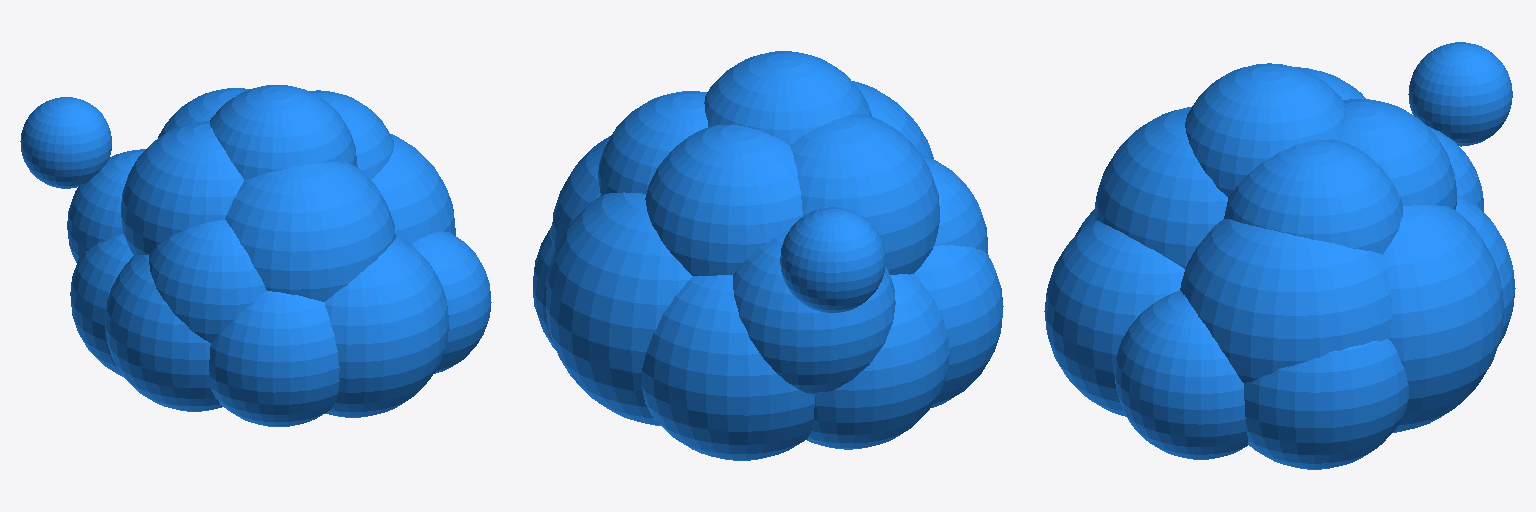
URDF robot description (teapot):
<?xml version="1.0"?>
<robot name="teapot">
  <!-- morphit:centroid -0.010786 0.005722 0.055192 -->
  <material name="default_color">
    <color rgba="0.200000 0.600000 1.000000 1.000000"/>
  </material>
  <link name="base">
    <inertial>
      <mass value="0.001000"/>
      <inertia ixx="0.000010" ixy="0.0" ixz="0.0" iyy="0.000010" iyz="0.0" izz="0.000010"/>
    </inertial>
  </link>
  <link name="sphere_0">
    <visual>
      <origin xyz="0 0 0" rpy="0 0 0"/>
      <geometry><sphere radius="0.048373"/></geometry>
      <material name="default_color"/>
    </visual>
    <collision>
      <origin xyz="0 0 0" rpy="0 0 0"/>
      <geometry><sphere radius="0.048373"/></geometry>
    </collision>
    <inertial>
      <mass value="0.099904"/>
      <inertia ixx="0.000094" ixy="0.0" ixz="0.0" iyy="0.000094" iyz="0.0" izz="0.000094"/>
    </inertial>
  </link>
  <joint name="sphere_0_fixed" type="fixed">
    <parent link="base"/>
    <child link="sphere_0"/>
    <origin xyz="0.028734 0.033299 -0.009886" rpy="0 0 0"/>
  </joint>
  <link name="sphere_1">
    <visual>
      <origin xyz="0 0 0" rpy="0 0 0"/>
      <geometry><sphere radius="0.042305"/></geometry>
      <material name="default_color"/>
    </visual>
    <collision>
      <origin xyz="0 0 0" rpy="0 0 0"/>
      <geometry><sphere radius="0.042305"/></geometry>
    </collision>
    <inertial>
      <mass value="0.066827"/>
      <inertia ixx="0.000048" ixy="0.0" ixz="0.0" iyy="0.000048" iyz="0.0" izz="0.000048"/>
    </inertial>
  </link>
  <joint name="sphere_1_fixed" type="fixed">
    <parent link="base"/>
    <child link="sphere_1"/>
    <origin xyz="0.016795 -0.053936 -0.016501" rpy="0 0 0"/>
  </joint>
  <link name="sphere_2">
    <visual>
      <origin xyz="0 0 0" rpy="0 0 0"/>
      <geometry><sphere radius="0.033487"/></geometry>
      <material name="default_color"/>
    </visual>
    <collision>
      <origin xyz="0 0 0" rpy="0 0 0"/>
      <geometry><sphere radius="0.033487"/></geometry>
    </collision>
    <inertial>
      <mass value="0.033143"/>
      <inertia ixx="0.000015" ixy="0.0" ixz="0.0" iyy="0.000015" iyz="0.0" izz="0.000015"/>
    </inertial>
  </link>
  <joint name="sphere_2_fixed" type="fixed">
    <parent link="base"/>
    <child link="sphere_2"/>
    <origin xyz="0.058889 -0.035722 -0.023321" rpy="0 0 0"/>
  </joint>
  <link name="sphere_3">
    <visual>
      <origin xyz="0 0 0" rpy="0 0 0"/>
      <geometry><sphere radius="0.042344"/></geometry>
      <material name="default_color"/>
    </visual>
    <collision>
      <origin xyz="0 0 0" rpy="0 0 0"/>
      <geometry><sphere radius="0.042344"/></geometry>
    </collision>
    <inertial>
      <mass value="0.067012"/>
      <inertia ixx="0.000048" ixy="0.0" ixz="0.0" iyy="0.000048" iyz="0.0" izz="0.000048"/>
    </inertial>
  </link>
  <joint name="sphere_3_fixed" type="fixed">
    <parent link="base"/>
    <child link="sphere_3"/>
    <origin xyz="-0.007764 0.043619 -0.018208" rpy="0 0 0"/>
  </joint>
  <link name="sphere_4">
    <visual>
      <origin xyz="0 0 0" rpy="0 0 0"/>
      <geometry><sphere radius="0.020205"/></geometry>
      <material name="default_color"/>
    </visual>
    <collision>
      <origin xyz="0 0 0" rpy="0 0 0"/>
      <geometry><sphere radius="0.020205"/></geometry>
    </collision>
    <inertial>
      <mass value="0.007280"/>
      <inertia ixx="0.000001" ixy="0.0" ixz="0.0" iyy="0.000001" iyz="0.0" izz="0.000001"/>
    </inertial>
  </link>
  <joint name="sphere_4_fixed" type="fixed">
    <parent link="base"/>
    <child link="sphere_4"/>
    <origin xyz="-0.060217 0.064750 0.040255" rpy="0 0 0"/>
  </joint>
  <link name="sphere_5">
    <visual>
      <origin xyz="0 0 0" rpy="0 0 0"/>
      <geometry><sphere radius="0.038965"/></geometry>
      <material name="default_color"/>
    </visual>
    <collision>
      <origin xyz="0 0 0" rpy="0 0 0"/>
      <geometry><sphere radius="0.038965"/></geometry>
    </collision>
    <inertial>
      <mass value="0.052215"/>
      <inertia ixx="0.000032" ixy="0.0" ixz="0.0" iyy="0.000032" iyz="0.0" izz="0.000032"/>
    </inertial>
  </link>
  <joint name="sphere_5_fixed" type="fixed">
    <parent link="base"/>
    <child link="sphere_5"/>
    <origin xyz="-0.040209 0.018199 -0.019863" rpy="0 0 0"/>
  </joint>
  <link name="sphere_6">
    <visual>
      <origin xyz="0 0 0" rpy="0 0 0"/>
      <geometry><sphere radius="0.039185"/></geometry>
      <material name="default_color"/>
    </visual>
    <collision>
      <origin xyz="0 0 0" rpy="0 0 0"/>
      <geometry><sphere radius="0.039185"/></geometry>
    </collision>
    <inertial>
      <mass value="0.053102"/>
      <inertia ixx="0.000033" ixy="0.0" ixz="0.0" iyy="0.000033" iyz="0.0" izz="0.000033"/>
    </inertial>
  </link>
  <joint name="sphere_6_fixed" type="fixed">
    <parent link="base"/>
    <child link="sphere_6"/>
    <origin xyz="0.059440 0.008318 -0.021004" rpy="0 0 0"/>
  </joint>
  <link name="sphere_7">
    <visual>
      <origin xyz="0 0 0" rpy="0 0 0"/>
      <geometry><sphere radius="0.035478"/></geometry>
      <material name="default_color"/>
    </visual>
    <collision>
      <origin xyz="0 0 0" rpy="0 0 0"/>
      <geometry><sphere radius="0.035478"/></geometry>
    </collision>
    <inertial>
      <mass value="0.039413"/>
      <inertia ixx="0.000020" ixy="0.0" ixz="0.0" iyy="0.000020" iyz="0.0" izz="0.000020"/>
    </inertial>
  </link>
  <joint name="sphere_7_fixed" type="fixed">
    <parent link="base"/>
    <child link="sphere_7"/>
    <origin xyz="0.003965 -0.009182 0.044289" rpy="0 0 0"/>
  </joint>
  <link name="sphere_8">
    <visual>
      <origin xyz="0 0 0" rpy="0 0 0"/>
      <geometry><sphere radius="0.039684"/></geometry>
      <material name="default_color"/>
    </visual>
    <collision>
      <origin xyz="0 0 0" rpy="0 0 0"/>
      <geometry><sphere radius="0.039684"/></geometry>
    </collision>
    <inertial>
      <mass value="0.055159"/>
      <inertia ixx="0.000035" ixy="0.0" ixz="0.0" iyy="0.000035" iyz="0.0" izz="0.000035"/>
    </inertial>
  </link>
  <joint name="sphere_8_fixed" type="fixed">
    <parent link="base"/>
    <child link="sphere_8"/>
    <origin xyz="-0.042269 -0.017037 -0.017589" rpy="0 0 0"/>
  </joint>
  <link name="sphere_9">
    <visual>
      <origin xyz="0 0 0" rpy="0 0 0"/>
      <geometry><sphere radius="0.037482"/></geometry>
      <material name="default_color"/>
    </visual>
    <collision>
      <origin xyz="0 0 0" rpy="0 0 0"/>
      <geometry><sphere radius="0.037482"/></geometry>
    </collision>
    <inertial>
      <mass value="0.046478"/>
      <inertia ixx="0.000026" ixy="0.0" ixz="0.0" iyy="0.000026" iyz="0.0" izz="0.000026"/>
    </inertial>
  </link>
  <joint name="sphere_9_fixed" type="fixed">
    <parent link="base"/>
    <child link="sphere_9"/>
    <origin xyz="-0.019132 -0.050908 -0.019233" rpy="0 0 0"/>
  </joint>
  <link name="sphere_10">
    <visual>
      <origin xyz="0 0 0" rpy="0 0 0"/>
      <geometry><sphere radius="0.046315"/></geometry>
      <material name="default_color"/>
    </visual>
    <collision>
      <origin xyz="0 0 0" rpy="0 0 0"/>
      <geometry><sphere radius="0.046315"/></geometry>
    </collision>
    <inertial>
      <mass value="0.087684"/>
      <inertia ixx="0.000075" ixy="0.0" ixz="0.0" iyy="0.000075" iyz="0.0" izz="0.000075"/>
    </inertial>
  </link>
  <joint name="sphere_10_fixed" type="fixed">
    <parent link="base"/>
    <child link="sphere_10"/>
    <origin xyz="0.047403 0.001227 -0.001935" rpy="0 0 0"/>
  </joint>
  <link name="sphere_11">
    <visual>
      <origin xyz="0 0 0" rpy="0 0 0"/>
      <geometry><sphere radius="0.044153"/></geometry>
      <material name="default_color"/>
    </visual>
    <collision>
      <origin xyz="0 0 0" rpy="0 0 0"/>
      <geometry><sphere radius="0.044153"/></geometry>
    </collision>
    <inertial>
      <mass value="0.075972"/>
      <inertia ixx="0.000059" ixy="0.0" ixz="0.0" iyy="0.000059" iyz="0.0" izz="0.000059"/>
    </inertial>
  </link>
  <joint name="sphere_11_fixed" type="fixed">
    <parent link="base"/>
    <child link="sphere_11"/>
    <origin xyz="0.000133 -0.033091 0.015087" rpy="0 0 0"/>
  </joint>
  <link name="sphere_12">
    <visual>
      <origin xyz="0 0 0" rpy="0 0 0"/>
      <geometry><sphere radius="0.037845"/></geometry>
      <material name="default_color"/>
    </visual>
    <collision>
      <origin xyz="0 0 0" rpy="0 0 0"/>
      <geometry><sphere radius="0.037845"/></geometry>
    </collision>
    <inertial>
      <mass value="0.047841"/>
      <inertia ixx="0.000027" ixy="0.0" ixz="0.0" iyy="0.000027" iyz="0.0" izz="0.000027"/>
    </inertial>
  </link>
  <joint name="sphere_12_fixed" type="fixed">
    <parent link="base"/>
    <child link="sphere_12"/>
    <origin xyz="0.003134 0.025677 0.026182" rpy="0 0 0"/>
  </joint>
  <link name="sphere_13">
    <visual>
      <origin xyz="0 0 0" rpy="0 0 0"/>
      <geometry><sphere radius="0.039730"/></geometry>
      <material name="default_color"/>
    </visual>
    <collision>
      <origin xyz="0 0 0" rpy="0 0 0"/>
      <geometry><sphere radius="0.039730"/></geometry>
    </collision>
    <inertial>
      <mass value="0.055352"/>
      <inertia ixx="0.000035" ixy="0.0" ixz="0.0" iyy="0.000035" iyz="0.0" izz="0.000035"/>
    </inertial>
  </link>
  <joint name="sphere_13_fixed" type="fixed">
    <parent link="base"/>
    <child link="sphere_13"/>
    <origin xyz="-0.024256 -0.000065 0.024853" rpy="0 0 0"/>
  </joint>
  <link name="sphere_14">
    <visual>
      <origin xyz="0 0 0" rpy="0 0 0"/>
      <geometry><sphere radius="0.033946"/></geometry>
      <material name="default_color"/>
    </visual>
    <collision>
      <origin xyz="0 0 0" rpy="0 0 0"/>
      <geometry><sphere radius="0.033946"/></geometry>
    </collision>
    <inertial>
      <mass value="0.034525"/>
      <inertia ixx="0.000016" ixy="0.0" ixz="0.0" iyy="0.000016" iyz="0.0" izz="0.000016"/>
    </inertial>
  </link>
  <joint name="sphere_14_fixed" type="fixed">
    <parent link="base"/>
    <child link="sphere_14"/>
    <origin xyz="-0.035029 0.040000 0.003820" rpy="0 0 0"/>
  </joint>
  <link name="sphere_15">
    <visual>
      <origin xyz="0 0 0" rpy="0 0 0"/>
      <geometry><sphere radius="0.036836"/></geometry>
      <material name="default_color"/>
    </visual>
    <collision>
      <origin xyz="0 0 0" rpy="0 0 0"/>
      <geometry><sphere radius="0.036836"/></geometry>
    </collision>
    <inertial>
      <mass value="0.044113"/>
      <inertia ixx="0.000024" ixy="0.0" ixz="0.0" iyy="0.000024" iyz="0.0" izz="0.000024"/>
    </inertial>
  </link>
  <joint name="sphere_15_fixed" type="fixed">
    <parent link="base"/>
    <child link="sphere_15"/>
    <origin xyz="-0.032546 -0.027929 0.002274" rpy="0 0 0"/>
  </joint>
  <link name="sphere_16">
    <visual>
      <origin xyz="0 0 0" rpy="0 0 0"/>
      <geometry><sphere radius="0.036123"/></geometry>
      <material name="default_color"/>
    </visual>
    <collision>
      <origin xyz="0 0 0" rpy="0 0 0"/>
      <geometry><sphere radius="0.036123"/></geometry>
    </collision>
    <inertial>
      <mass value="0.041602"/>
      <inertia ixx="0.000022" ixy="0.0" ixz="0.0" iyy="0.000022" iyz="0.0" izz="0.000022"/>
    </inertial>
  </link>
  <joint name="sphere_16_fixed" type="fixed">
    <parent link="base"/>
    <child link="sphere_16"/>
    <origin xyz="0.034828 0.008132 0.026576" rpy="0 0 0"/>
  </joint>
  <link name="sphere_17">
    <visual>
      <origin xyz="0 0 0" rpy="0 0 0"/>
      <geometry><sphere radius="0.036755"/></geometry>
      <material name="default_color"/>
    </visual>
    <collision>
      <origin xyz="0 0 0" rpy="0 0 0"/>
      <geometry><sphere radius="0.036755"/></geometry>
    </collision>
    <inertial>
      <mass value="0.043823"/>
      <inertia ixx="0.000024" ixy="0.0" ixz="0.0" iyy="0.000024" iyz="0.0" izz="0.000024"/>
    </inertial>
  </link>
  <joint name="sphere_17_fixed" type="fixed">
    <parent link="base"/>
    <child link="sphere_17"/>
    <origin xyz="-0.007769 -0.011256 -0.017687" rpy="0 0 0"/>
  </joint>
  <link name="sphere_18">
    <visual>
      <origin xyz="0 0 0" rpy="0 0 0"/>
      <geometry><sphere radius="0.038033"/></geometry>
      <material name="default_color"/>
    </visual>
    <collision>
      <origin xyz="0 0 0" rpy="0 0 0"/>
      <geometry><sphere radius="0.038033"/></geometry>
    </collision>
    <inertial>
      <mass value="0.048555"/>
      <inertia ixx="0.000028" ixy="0.0" ixz="0.0" iyy="0.000028" iyz="0.0" izz="0.000028"/>
    </inertial>
  </link>
  <joint name="sphere_18_fixed" type="fixed">
    <parent link="base"/>
    <child link="sphere_18"/>
    <origin xyz="0.015873 -0.004093 -0.018110" rpy="0 0 0"/>
  </joint>
</robot>

--- Render facts (derived) ---
Views: 3 orthographic renders of the robot side by side, from view 1: azimuth 30°, elevation 25°; view 2: azimuth 150°, elevation 25°; view 3: azimuth 270°, elevation 25°.
Robot: teapot — 20 links, 19 joints (19 fixed); root link base; default pose: every joint at zero.
Links seen in each view (by area): view 1: sphere_11, sphere_1, sphere_9, sphere_13, sphere_8, sphere_7, sphere_15, sphere_4, sphere_2, sphere_10, sphere_5, sphere_14 (+2 smaller); view 2: sphere_0, sphere_3, sphere_12, sphere_13, sphere_14, sphere_5, sphere_7, sphere_4, sphere_8, sphere_16, sphere_15, sphere_10 (+2 smaller); view 3: sphere_10, sphere_0, sphere_6, sphere_2, sphere_1, sphere_16, sphere_7, sphere_11, sphere_4, sphere_12, sphere_3, sphere_14 (+1 smaller).
Boxes of the visible links, <box> form: sphere_11: <box>225,162,395,301</box>; sphere_1: <box>324,236,448,417</box>; sphere_9: <box>209,291,339,426</box>; sphere_13: <box>121,121,243,254</box>; sphere_8: <box>105,255,222,411</box>; sphere_7: <box>210,85,357,179</box>; sphere_15: <box>149,220,266,342</box>; sphere_4: <box>20,97,111,188</box>; sphere_2: <box>411,232,491,373</box>; sphere_10: <box>372,134,455,244</box>; sphere_5: <box>70,234,133,376</box>; sphere_14: <box>67,149,145,262</box>; sphere_0: <box>545,192,692,425</box>; sphere_3: <box>642,275,814,460</box>; sphere_12: <box>645,125,802,275</box>; sphere_13: <box>790,114,939,274</box>; sphere_14: <box>733,229,895,395</box>; sphere_5: <box>807,274,949,449</box>; sphere_7: <box>704,51,871,144</box>; sphere_4: <box>780,207,885,312</box>; sphere_8: <box>913,245,1003,407</box>; sphere_16: <box>598,91,707,195</box>; sphere_15: <box>922,156,987,252</box>; sphere_10: <box>551,135,611,248</box>; sphere_10: <box>1180,219,1391,382</box>; sphere_0: <box>1383,205,1503,432</box>; sphere_6: <box>1244,339,1408,469</box>; sphere_2: <box>1114,291,1248,459</box>; sphere_1: <box>1044,220,1184,416</box>; sphere_16: <box>1224,139,1402,254</box>; sphere_7: <box>1185,63,1345,196</box>; sphere_11: <box>1094,107,1227,268</box>; sphere_4: <box>1408,42,1512,146</box>; sphere_12: <box>1340,99,1456,209</box>; sphere_3: <box>1456,195,1515,345</box>; sphere_14: <box>1426,125,1483,211</box>.
Size in the robot's own frame: 0.1806 by 0.1822 by 0.1403 metres.
Geometry: primitives only (box / cylinder / sphere), no mesh files.
